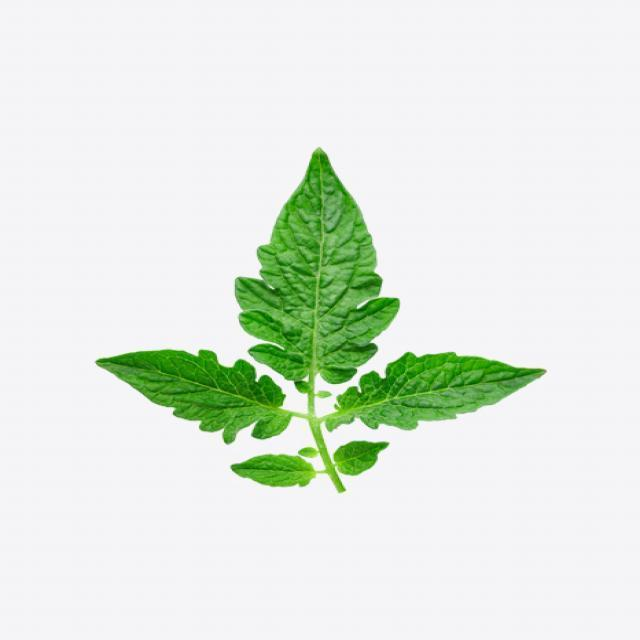Healthy Leaf: (238, 125, 382, 382), (93, 343, 297, 435), (332, 348, 553, 427), (228, 452, 320, 488), (336, 438, 392, 480)
